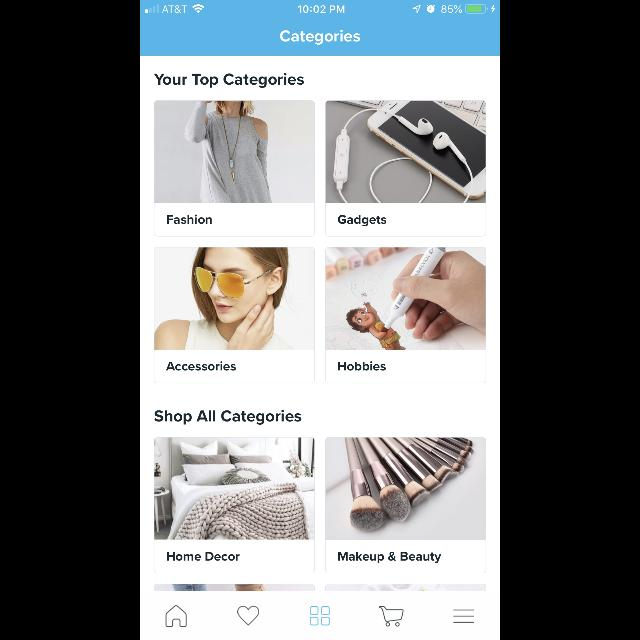icon: (379, 606, 403, 626), (166, 605, 187, 627), (237, 606, 259, 626), (310, 606, 330, 626), (453, 608, 475, 624)
image: (326, 100, 487, 204), (153, 100, 314, 204), (326, 438, 486, 540), (154, 437, 314, 539), (155, 248, 315, 350), (326, 248, 486, 350), (326, 584, 487, 590), (155, 584, 315, 590)
text: (154, 74, 304, 88), (154, 410, 302, 424), (280, 30, 360, 46), (338, 552, 442, 564), (166, 362, 236, 371), (167, 552, 240, 560), (338, 216, 386, 227), (338, 361, 386, 371), (168, 214, 212, 223)
uppertaskbar: (140, 0, 500, 14)
